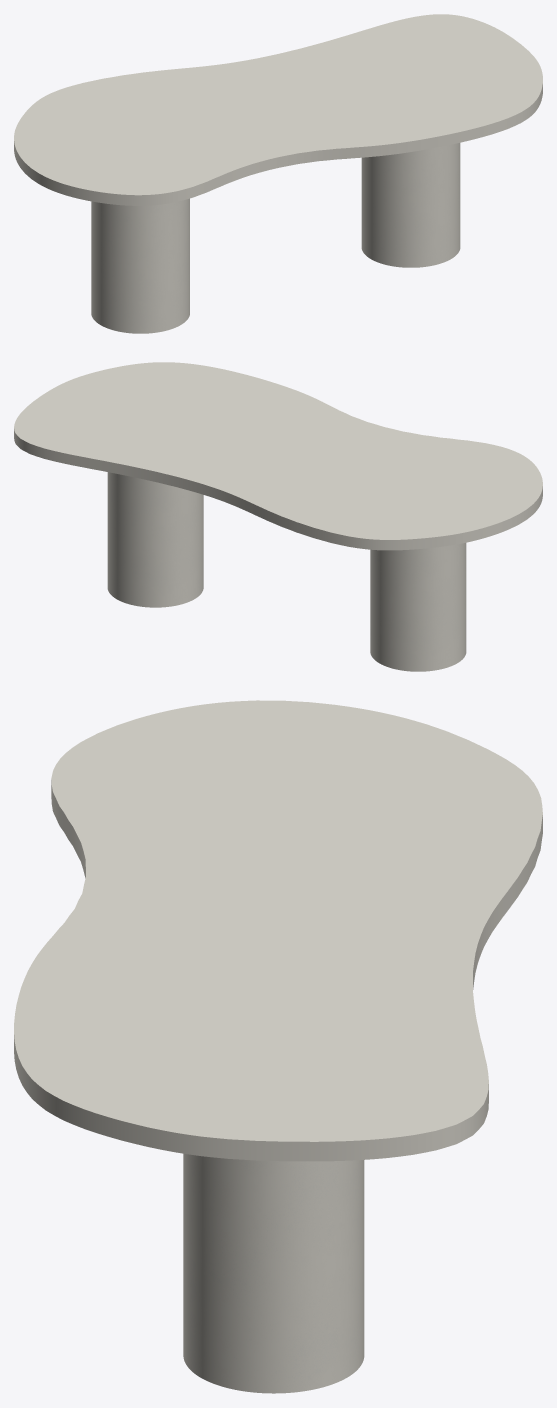
The model's file is pale_wave_standard_stream.glb.
The picture shows the model from 3 angles, top to bottom: view 1: azimuth 30°, elevation 25°; view 2: azimuth 150°, elevation 25°; view 3: azimuth 270°, elevation 25°; orthographic projection. The views are drawn at different scales.
Visible parts, largest first — view 1: standard_wave, stream; view 2: standard_wave, stream; view 3: standard_wave, stream.
Boxes of the visible parts, box(x1,y1,x2,y2) form: standard_wave: box(14, 14, 542, 205); stream: box(91, 143, 460, 333); standard_wave: box(14, 362, 542, 550); stream: box(107, 472, 466, 671); standard_wave: box(14, 700, 542, 1161); stream: box(183, 1153, 364, 1393).
Size of the model in its own units: 7.5 by 2.5 by 3.8.
1 material, 1 textured.
